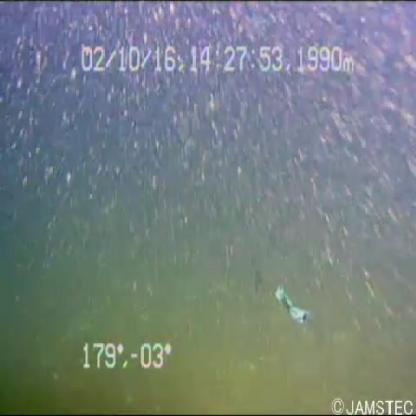Rác: (264, 272, 314, 330)
